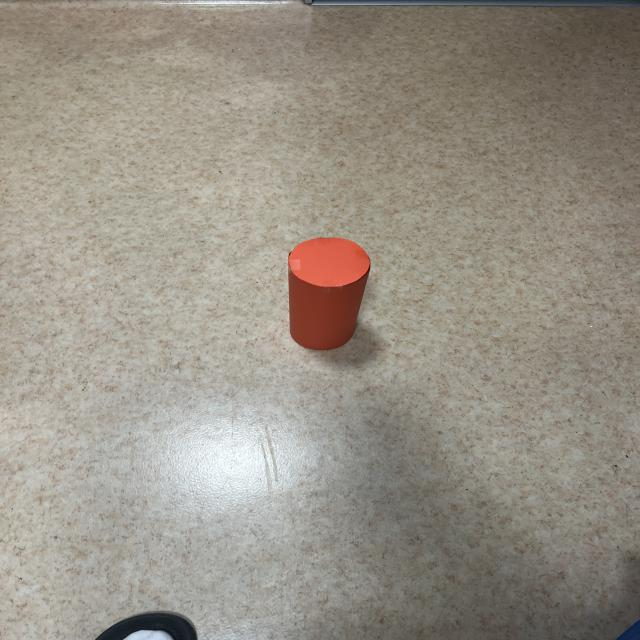przeszkoda: (288, 238, 370, 350)
